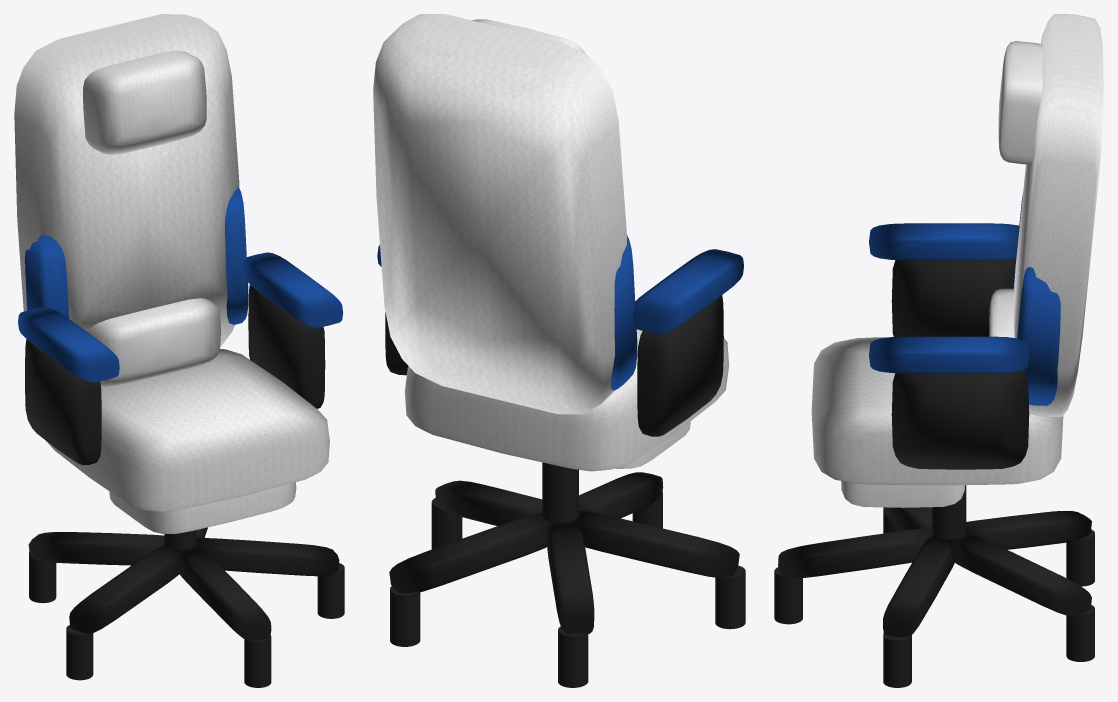
3 views of the same model, side by side, from view 1: azimuth 30°, elevation 25°; view 2: azimuth 150°, elevation 25°; view 3: azimuth 270°, elevation 25° (orthographic). The views are drawn at different scales.
Parts seen in each view (by area): view 1: 3 backrest, 1 seat, 4 headrest, 5 lumbar_pillow, 8 armrest_left_support, 10 armrest_right_support, 17 base_spoke_5, 9 armrest_left_pad, 11 armrest_right_pad, 14 base_spoke_2, 13 base_spoke_1, 2 footrest (+8 smaller); view 2: 3 backrest, 1 seat, 8 armrest_left_support, 15 base_spoke_3, 17 base_spoke_5, 9 armrest_left_pad, 16 base_spoke_4, 14 base_spoke_2, 6 backrest_accent_left, 13 base_spoke_1, 12 gas_lift, 22 wheel_5 (+7 smaller); view 3: 3 backrest, 1 seat, 10 armrest_right_support, 8 armrest_left_support, 11 armrest_right_pad, 9 armrest_left_pad, 15 base_spoke_3, 13 base_spoke_1, 4 headrest, 7 backrest_accent_right, 14 base_spoke_2, 16 base_spoke_4 (+8 smaller).
Boxes of the visible parts, x1,y1,x2,y2 form: 3 backrest: (14, 14, 239, 347); 1 seat: (46, 348, 329, 511); 4 headrest: (83, 50, 206, 154); 5 lumbar_pillow: (87, 298, 221, 386); 8 armrest_left_support: (25, 339, 101, 465); 10 armrest_right_support: (248, 285, 325, 408); 17 base_spoke_5: (69, 545, 180, 633); 9 armrest_left_pad: (18, 307, 119, 382); 11 armrest_right_pad: (243, 252, 343, 327); 14 base_spoke_2: (195, 538, 339, 576); 13 base_spoke_1: (179, 546, 271, 641); 2 footrest: (109, 482, 296, 533); 3 backrest: (373, 14, 626, 414); 1 seat: (404, 329, 728, 471); 8 armrest_left_support: (637, 295, 723, 436); 15 base_spoke_3: (389, 512, 550, 593); 17 base_spoke_5: (575, 511, 739, 577); 9 armrest_left_pad: (633, 249, 743, 334); 16 base_spoke_4: (547, 520, 594, 633); 14 base_spoke_2: (435, 480, 542, 525); 6 backrest_accent_left: (611, 235, 637, 390); 13 base_spoke_1: (579, 472, 663, 518); 12 gas_lift: (542, 462, 578, 522); 22 wheel_5: (715, 565, 745, 629); 3 backrest: (1014, 14, 1103, 416); 1 seat: (811, 337, 1063, 485); 10 armrest_right_support: (891, 370, 1029, 469); 8 armrest_left_support: (891, 258, 1015, 336); 11 armrest_right_pad: (869, 336, 1029, 373); 9 armrest_left_pad: (869, 223, 1019, 260); 15 base_spoke_3: (952, 533, 1091, 617); 13 base_spoke_1: (778, 528, 933, 578); 4 headrest: (998, 41, 1042, 164); 7 backrest_accent_right: (1017, 267, 1060, 405); 14 base_spoke_2: (883, 536, 955, 637); 16 base_spoke_4: (966, 511, 1091, 549).
Bounding box in the file's own units: 0.52 × 1 × 0.52.
4 materials, 2 textured.
